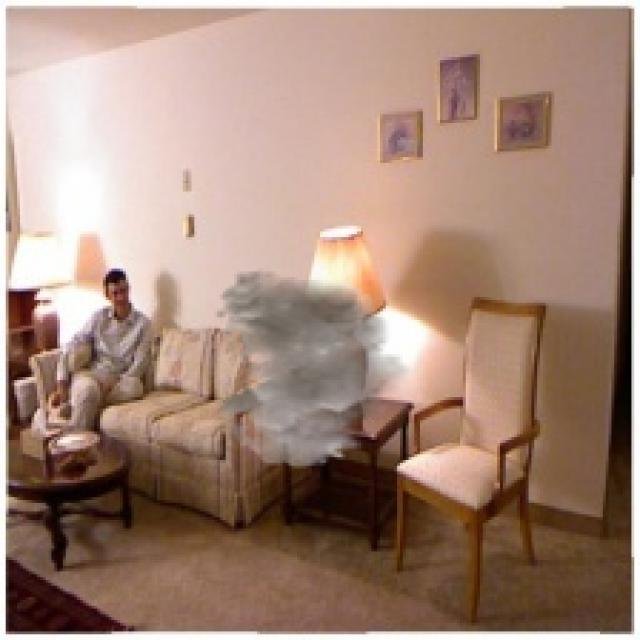Smoke: (214, 268, 414, 468)
